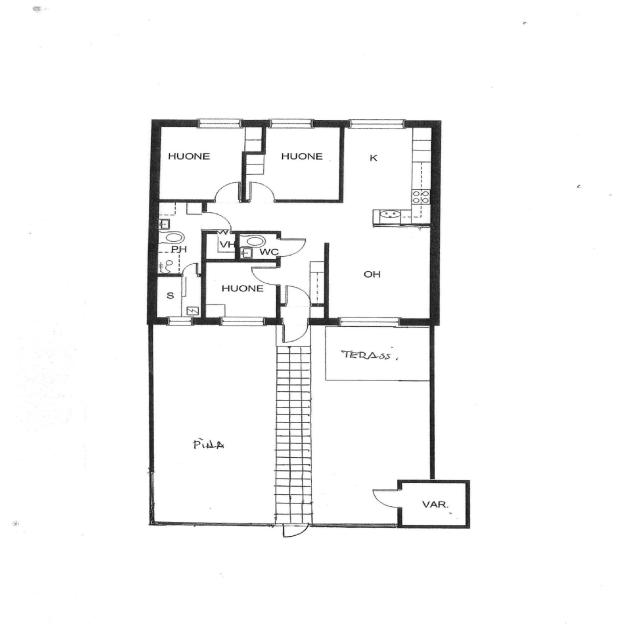door: (244, 178, 279, 205), (368, 486, 405, 510), (274, 235, 310, 259), (248, 263, 284, 287), (210, 179, 243, 205), (200, 210, 235, 234), (280, 283, 312, 309), (280, 320, 310, 344), (281, 520, 309, 538), (182, 262, 200, 277)
window: (331, 315, 408, 329), (344, 116, 411, 132), (143, 467, 163, 518), (193, 116, 248, 131), (265, 116, 319, 130), (215, 316, 269, 328), (162, 315, 198, 328)
zone: (148, 322, 284, 528), (326, 215, 436, 324), (338, 124, 436, 224), (245, 123, 342, 203), (158, 123, 247, 203), (205, 260, 276, 322), (154, 201, 204, 276), (398, 482, 470, 527), (150, 274, 206, 322), (235, 231, 280, 260), (205, 231, 237, 260)
